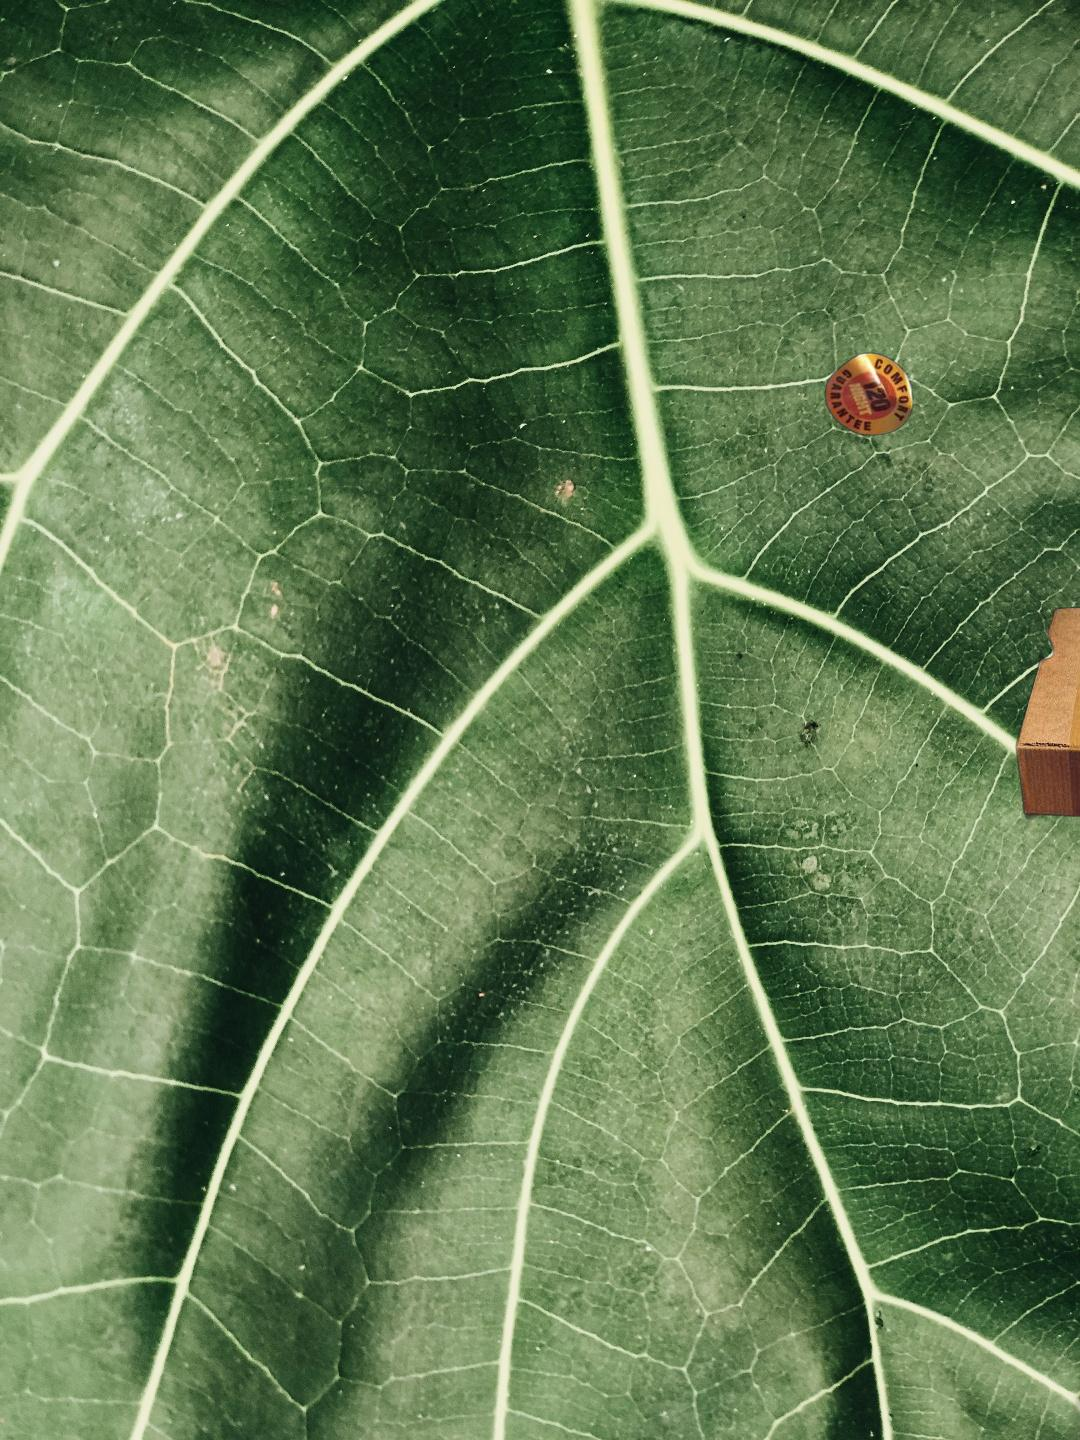paper: (821, 349, 1080, 731), (1028, 1246, 1080, 1440)
trashbox-cardboard: (1015, 595, 1080, 825)
